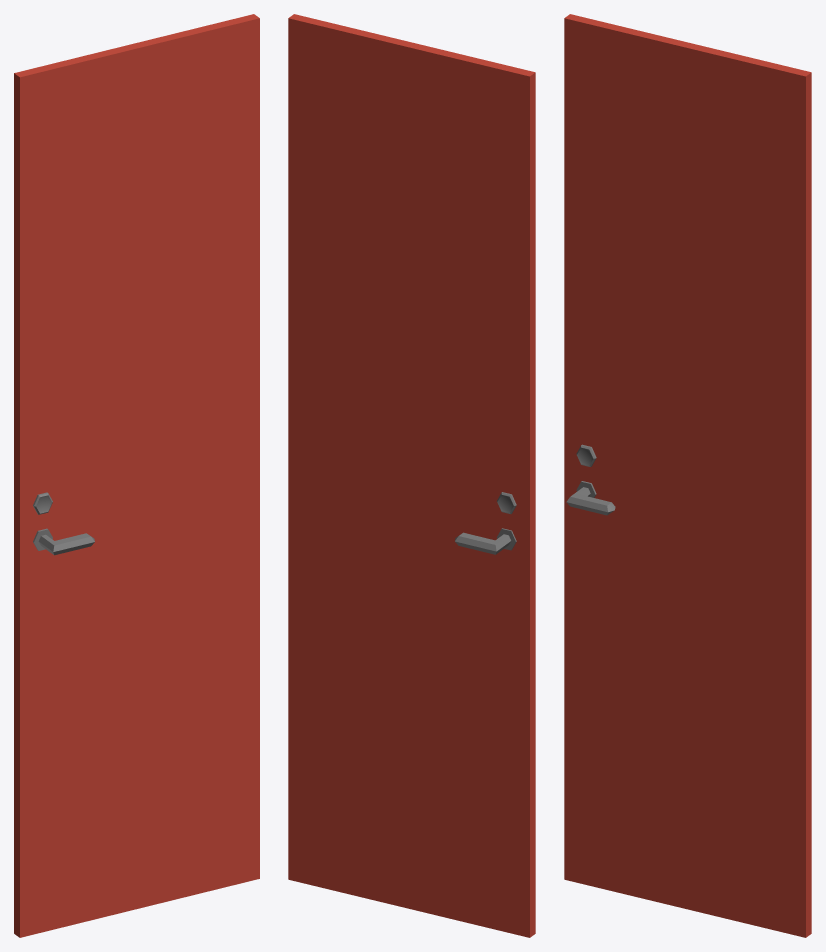
The model's file is SW_corridor__R_lobby_R_Aula_Ovi_012.FBX.
3 views of the same model, side by side, from view 1: azimuth 30°, elevation 25°; view 2: azimuth 150°, elevation 25°; view 3: azimuth 330°, elevation 25° (orthographic).
Parts seen in each view (by area): view 1: SW_corridor__R_lobby_R_Aula_Ovi_012; view 2: SW_corridor__R_lobby_R_Aula_Ovi_012; view 3: SW_corridor__R_lobby_R_Aula_Ovi_012.
Boxes of the visible parts, x1,y1,x2,y2 form: SW_corridor__R_lobby_R_Aula_Ovi_012: (14,14,259,937); SW_corridor__R_lobby_R_Aula_Ovi_012: (288,14,535,937); SW_corridor__R_lobby_R_Aula_Ovi_012: (564,14,811,937).
Size of the model in its own units: 60 by 15.99 by 205.
